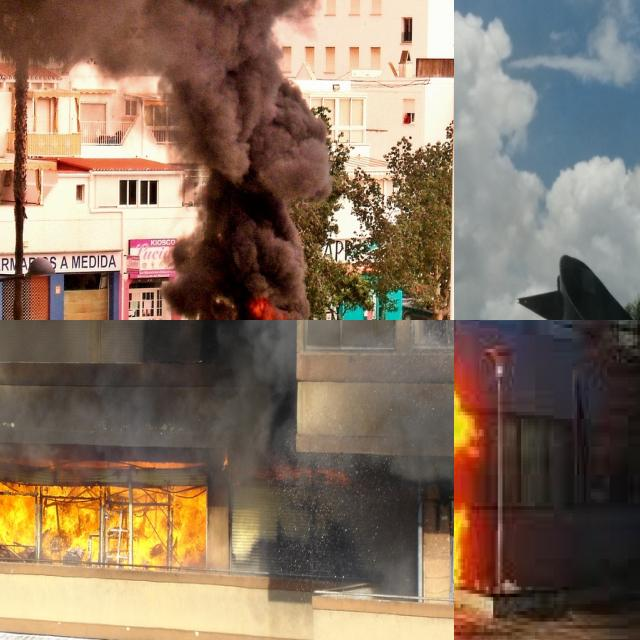fire: (0, 466, 210, 573), (454, 359, 498, 590)
smoke: (0, 0, 327, 320), (0, 320, 454, 477), (372, 542, 416, 598)
